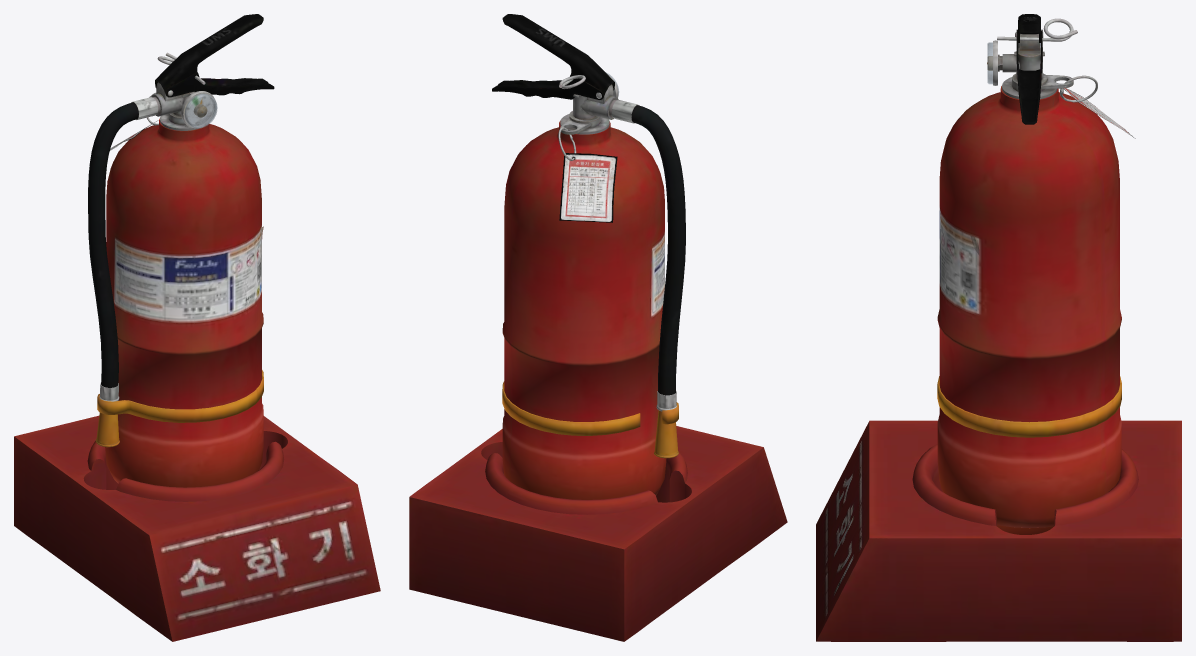
Rendered from korean_fire_extinguisher_01.99bfae0b.glb.
3 views of the same model, side by side, from view 1: azimuth 30°, elevation 25°; view 2: azimuth 150°, elevation 25°; view 3: azimuth 270°, elevation 25° (orthographic). The views are drawn at different scales.
Parts seen in each view (by area): view 1: korean_fire_extinguisher_01; view 2: korean_fire_extinguisher_01; view 3: korean_fire_extinguisher_01.
Boxes of the visible parts, bbox=[...] form: korean_fire_extinguisher_01: bbox=[14, 14, 380, 641]; korean_fire_extinguisher_01: bbox=[409, 14, 787, 641]; korean_fire_extinguisher_01: bbox=[816, 14, 1181, 641].
Bounding box in the file's own units: 0.4246 × 1 × 0.5573.
3 materials, 3 textured.
